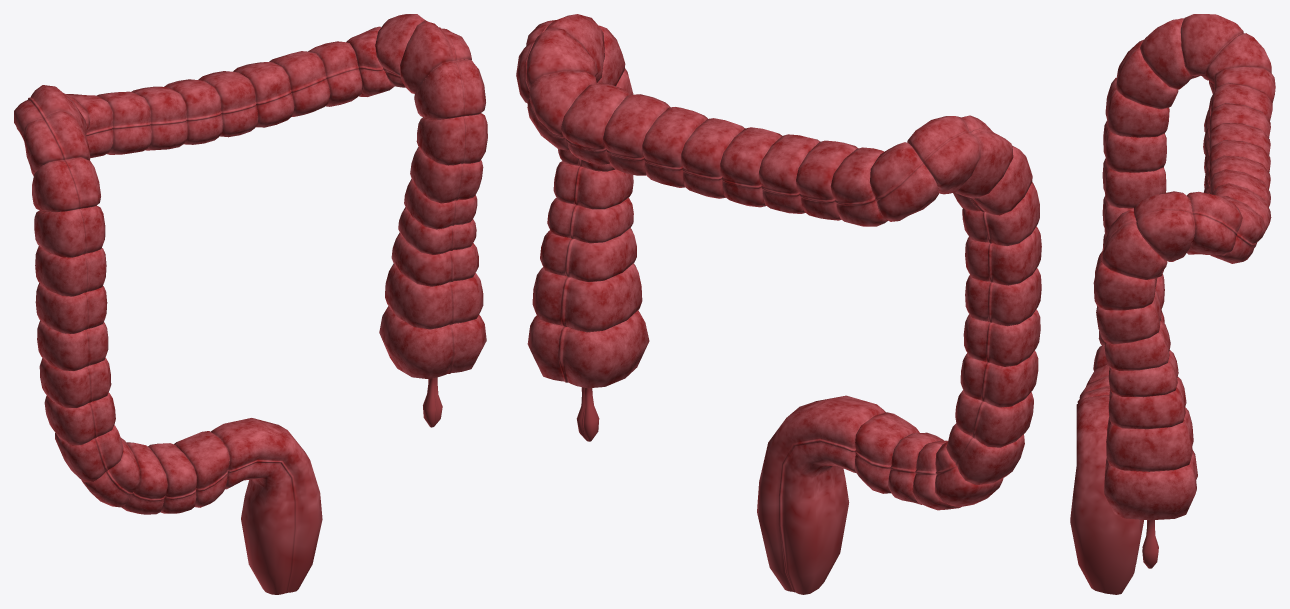
File: organ3.glb
The picture shows the model from 3 angles, left to right: view 1: azimuth 30°, elevation 25°; view 2: azimuth 150°, elevation 25°; view 3: azimuth 270°, elevation 25°; orthographic projection. The views are drawn at different scales.
Visible parts, largest first — view 1: Circle; view 2: Circle; view 3: Circle.
Boxes of the visible parts, box(x1,y1,x2,y2) form: Circle: box(14, 14, 487, 594); Circle: box(516, 14, 1041, 594); Circle: box(1070, 14, 1275, 594).
Bounding box in the file's own units: 0.6269 × 0.6908 × 0.2618.
Materials: 1 (1 with a texture image).
